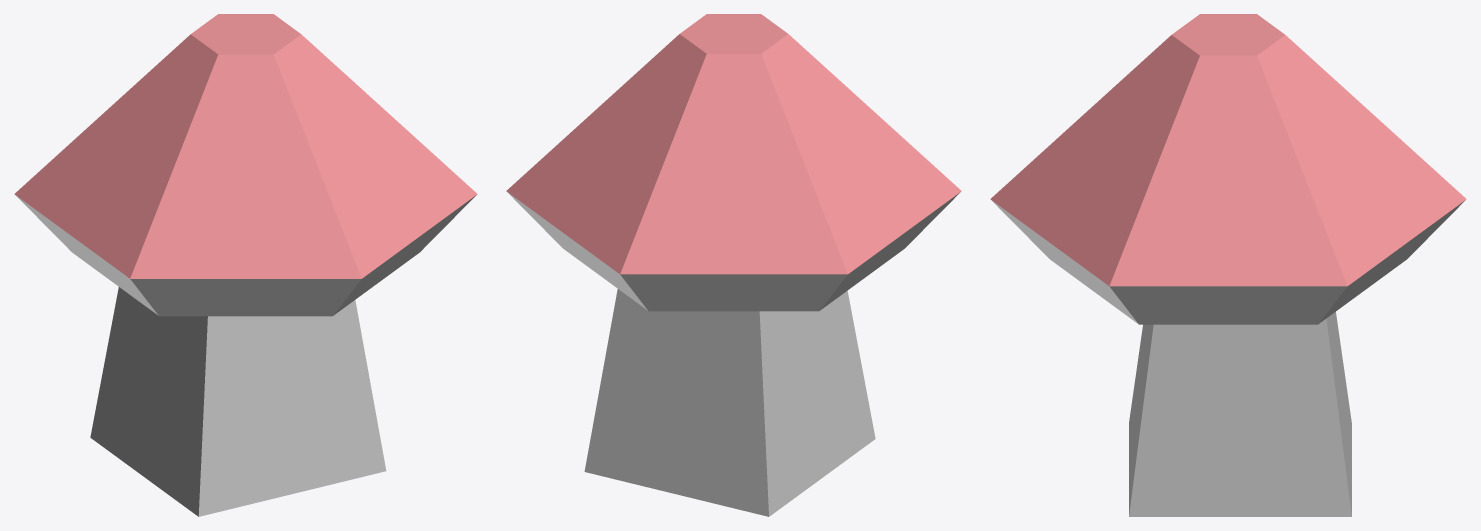
Rendered from mushroom_red.glb.
3 renders of one model, left to right at view 1: azimuth 30°, elevation 25°; view 2: azimuth 150°, elevation 25°; view 3: azimuth 270°, elevation 25°, orthographic. The views are drawn at different scales.
Parts seen in each view (by area): view 1: mushroom_red; view 2: mushroom_red; view 3: mushroom_red.
Boxes of the visible parts, left/top/right/bottom form: mushroom_red: left=14, top=14, right=477, bottom=516; mushroom_red: left=506, top=14, right=961, bottom=516; mushroom_red: left=990, top=14, right=1466, bottom=516.
Size of the model in its own units: 0.2088 by 0.2434 by 0.2411.
